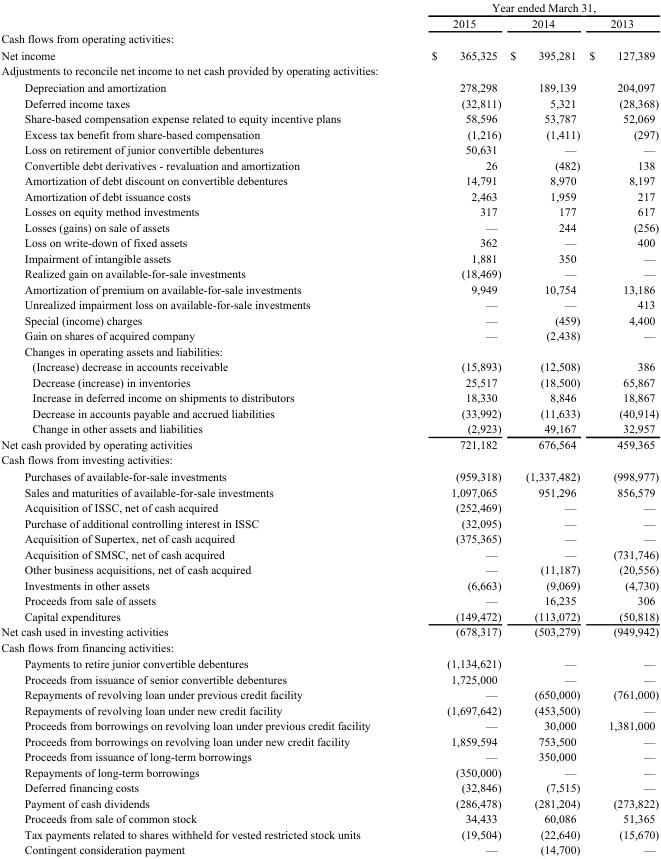table: (0, 0, 658, 855)
table column: (0, 0, 400, 855), (400, 0, 505, 855), (505, 0, 583, 855), (583, 0, 658, 855)
table column header: (0, 0, 658, 30)
table projected row header: (0, 638, 658, 655), (0, 30, 658, 46), (0, 62, 658, 78), (0, 451, 658, 467), (0, 343, 658, 358)
table row: (0, 638, 658, 655), (0, 14, 658, 30), (0, 30, 658, 46), (0, 46, 658, 62), (0, 62, 658, 78), (0, 78, 658, 94), (0, 94, 658, 110), (0, 125, 658, 141), (0, 141, 658, 157), (0, 172, 658, 188), (0, 203, 658, 219), (0, 234, 658, 250), (0, 265, 658, 281), (0, 296, 658, 312), (0, 327, 658, 343), (0, 358, 658, 374), (0, 389, 658, 405), (0, 420, 658, 436), (0, 451, 658, 467), (0, 467, 658, 483), (0, 483, 658, 499), (0, 514, 658, 530), (0, 545, 658, 561), (0, 576, 658, 592), (0, 607, 658, 623), (0, 655, 658, 671), (0, 686, 658, 702), (0, 717, 658, 733), (0, 748, 658, 764), (0, 779, 658, 795), (0, 810, 658, 826), (0, 110, 658, 125), (0, 157, 658, 172), (0, 188, 658, 203), (0, 219, 658, 234), (0, 250, 658, 265), (0, 281, 658, 296), (0, 312, 658, 327), (0, 343, 658, 358), (0, 374, 658, 389), (0, 405, 658, 420), (0, 436, 658, 451), (0, 499, 658, 514), (0, 530, 658, 545), (0, 561, 658, 576), (0, 592, 658, 607), (0, 623, 658, 638), (0, 671, 658, 686), (0, 702, 658, 717), (0, 733, 658, 748), (0, 764, 658, 779), (0, 795, 658, 810), (0, 826, 658, 841), (0, 0, 658, 14), (0, 841, 658, 855)
table spanning cell: (400, 0, 658, 14)
